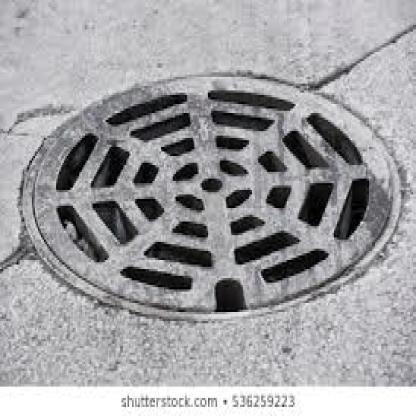manholes: (15, 43, 416, 335)
